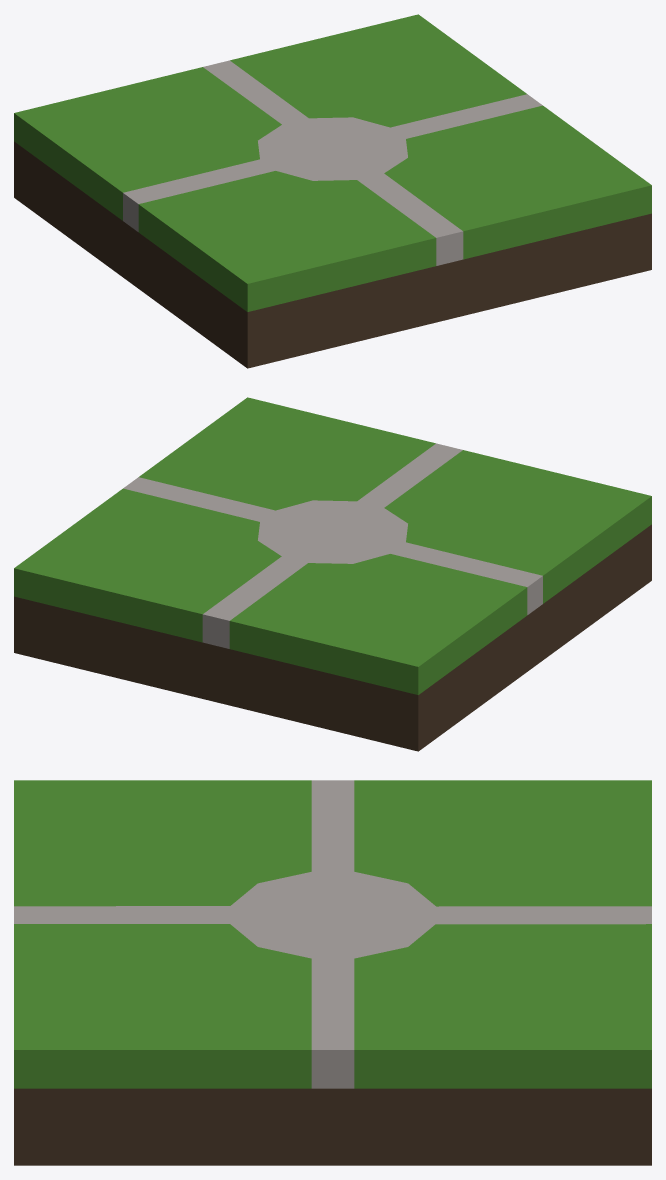
File: tiles_tile-park.fbx
3 renders of one model, top to bottom at view 1: azimuth 30°, elevation 25°; view 2: azimuth 150°, elevation 25°; view 3: azimuth 270°, elevation 25°, orthographic. The views are drawn at different scales.
Parts seen in each view (by area): view 1: tiles_tile_park; view 2: tiles_tile_park; view 3: tiles_tile_park.
Boxes of the visible parts, x1,y1,x2,y2 form: tiles_tile_park: [14, 14, 651, 368]; tiles_tile_park: [14, 397, 651, 751]; tiles_tile_park: [14, 780, 651, 1165].
Size of the model in its own units: 200 by 40 by 200.
